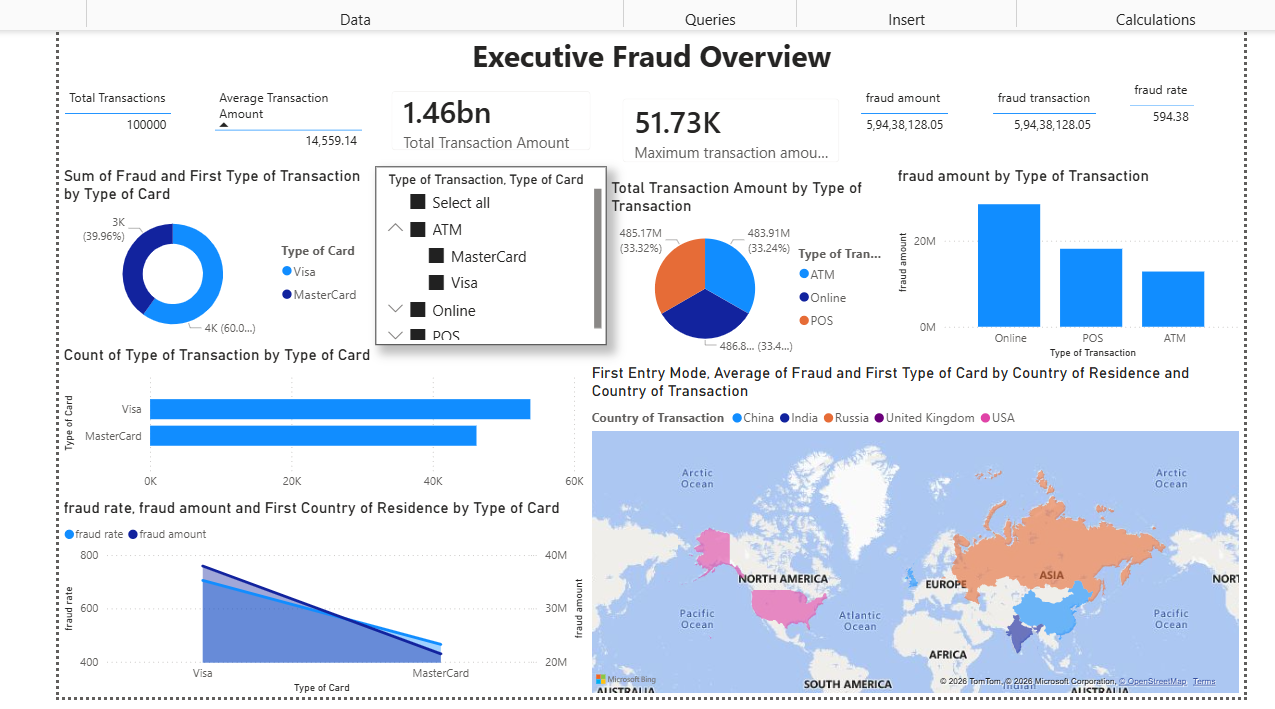

What the dashboard file says about the page in this screenshot:
{"tool":"powerbi","page":{"name":"Executive Fraud Overview","canvas":[1280,720],"ordinal":0},"visuals":[{"type":"textbox","box":[0,0,1279.2,56.7],"z":0},{"type":"tableEx","fields":{"Values":["CreditCardData_Cleaned.Total Transactions"]},"box":[0,56.7,161.9,90.7],"z":1000},{"type":"cardVisual","fields":{"Data":["CreditCardData_Cleaned.Total Transaction Amount"]},"box":[342,49.1,249.5,98.3],"z":2000},{"type":"cardVisual","fields":{"Data":["CreditCardData_Cleaned.Maximum transaction amount"]},"box":[591.5,56.7,268.3,103.9],"z":3000},{"type":"tableEx","fields":{"Values":["CreditCardData_Cleaned.Average Transaction Amount"]},"box":[162.5,56.7,179.5,90.7],"z":4000},{"type":"tableEx","fields":{"Values":["CreditCardData_Cleaned.fraud amount"]},"box":[859.8,56.7,141.7,90.7],"z":5000},{"type":"tableEx","fields":{"Values":["CreditCardData_Cleaned.fraud transaction"]},"box":[1001.6,56.7,147.4,90.7],"z":6000},{"type":"tableEx","fields":{"Values":["CreditCardData_Cleaned.fraud rate"]},"box":[1149,49.1,130.4,98.3],"z":7000},{"type":"donutChart","fields":{"Y":["Sum(CreditCardData_Cleaned.Fraud)"],"Category":["CreditCardData_Cleaned.Type of Card"]},"box":[0,147.4,342,192.8],"z":7001},{"type":"clusteredBarChart","fields":{"Category":["CreditCardData_Cleaned.Type of Card"],"Y":["CountNonNull(CreditCardData_Cleaned.Type of Transaction)"]},"box":[0,340.2,570.7,164.4],"z":7002},{"type":"areaChart","fields":{"Category":["CreditCardData_Cleaned.Type of Card"],"Y":["CreditCardData_Cleaned.fraud rate"],"Y2":["CreditCardData_Cleaned.fraud amount"]},"box":[0,504.6,570.7,215.4],"z":7003},{"type":"clusteredColumnChart","fields":{"Category":["CreditCardData_Cleaned.Type of Transaction"],"Y":["CreditCardData_Cleaned.fraud amount"]},"box":[899.5,147.4,379.8,211.7],"z":7004},{"type":"filledMap","fields":{"Category":["CreditCardData_Cleaned.Country of Residence"],"Series":["CreditCardData_Cleaned.Country of Transaction"],"Y":["Min(CreditCardData_Cleaned.Entry Mode)"],"X":["Avg(CreditCardData_Cleaned.Fraud)"]},"box":[570.7,359.1,708.7,360.9],"z":7005},{"type":"pieChart","fields":{"Series":["CreditCardData_Cleaned.Type of Transaction"],"Y":["CreditCardData_Cleaned.Total Transaction Amount"]},"box":[591.5,160.6,308,198.4],"z":7006},{"type":"slicer","fields":{"Values":["CreditCardData_Cleaned.Type of Transaction","CreditCardData_Cleaned.Type of Card"]},"box":[342,147.4,249.5,192.8],"z":7007}]}

Visuals, with their boxes on the page's 1280x720 design canvas (x1, y1, x2, y2). These are canvas units, not pixel positions in the 1275x709 screenshot, which may show the page scaled, cropped or inside an application window:
textbox: {"x1": 0, "y1": 0, "x2": 1279, "y2": 57}
tableEx - CreditCardData_Cleaned.Total Transactions: {"x1": 0, "y1": 57, "x2": 162, "y2": 147}
cardVisual - CreditCardData_Cleaned.Total Transaction Amount: {"x1": 342, "y1": 49, "x2": 592, "y2": 147}
cardVisual - CreditCardData_Cleaned.Maximum transaction amount: {"x1": 592, "y1": 57, "x2": 860, "y2": 161}
tableEx - CreditCardData_Cleaned.Average Transaction Amount: {"x1": 162, "y1": 57, "x2": 342, "y2": 147}
tableEx - CreditCardData_Cleaned.fraud amount: {"x1": 860, "y1": 57, "x2": 1002, "y2": 147}
tableEx - CreditCardData_Cleaned.fraud transaction: {"x1": 1002, "y1": 57, "x2": 1149, "y2": 147}
tableEx - CreditCardData_Cleaned.fraud rate: {"x1": 1149, "y1": 49, "x2": 1279, "y2": 147}
donutChart - Sum(CreditCardData_Cleaned.Fraud) x CreditCardData_Cleaned.Type of Card: {"x1": 0, "y1": 147, "x2": 342, "y2": 340}
clusteredBarChart - CreditCardData_Cleaned.Type of Card x CountNonNull(CreditCardData_Cleaned.Type of Transaction): {"x1": 0, "y1": 340, "x2": 571, "y2": 505}
areaChart - CreditCardData_Cleaned.Type of Card x CreditCardData_Cleaned.fraud rate: {"x1": 0, "y1": 505, "x2": 571, "y2": 720}
clusteredColumnChart - CreditCardData_Cleaned.Type of Transaction x CreditCardData_Cleaned.fraud amount: {"x1": 900, "y1": 147, "x2": 1279, "y2": 359}
filledMap - CreditCardData_Cleaned.Country of Residence x CreditCardData_Cleaned.Country of Transaction: {"x1": 571, "y1": 359, "x2": 1279, "y2": 720}
pieChart - CreditCardData_Cleaned.Type of Transaction x CreditCardData_Cleaned.Total Transaction Amount: {"x1": 592, "y1": 161, "x2": 900, "y2": 359}
slicer - CreditCardData_Cleaned.Type of Transaction x CreditCardData_Cleaned.Type of Card: {"x1": 342, "y1": 147, "x2": 592, "y2": 340}
